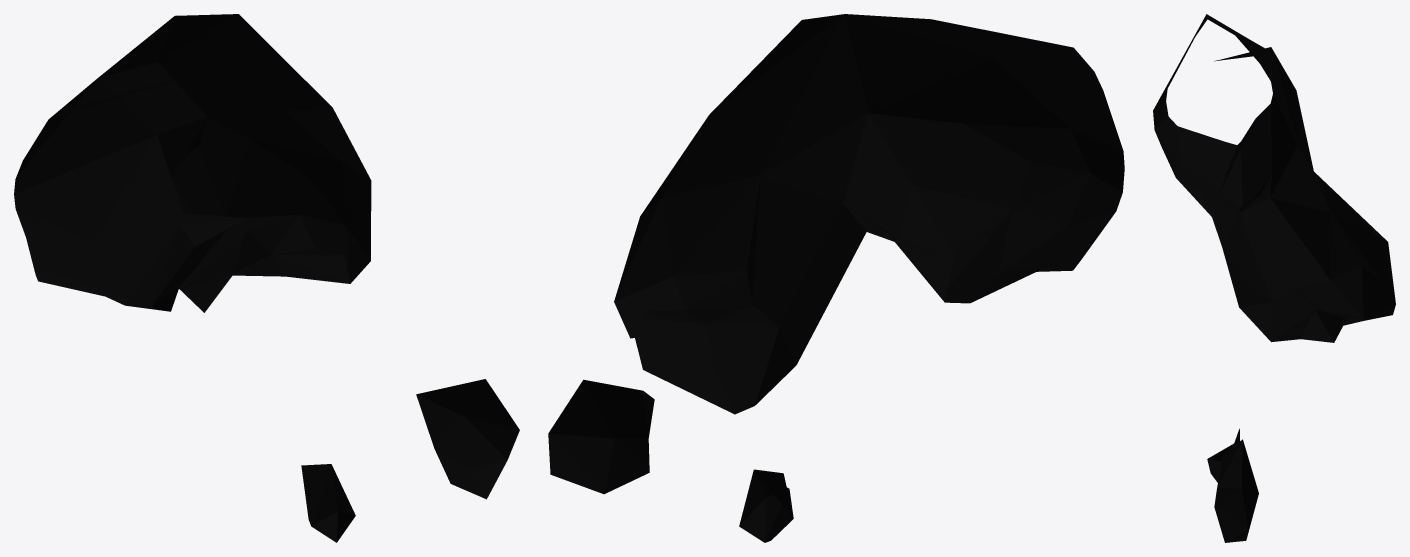
3 renders of one model, left to right at view 1: azimuth 30°, elevation 25°; view 2: azimuth 150°, elevation 25°; view 3: azimuth 270°, elevation 25°, orthographic. The views are drawn at different scales.
Bounding box in the file's own units: 1.06 × 1.13 × 0.6228.
1 material, 1 textured.
